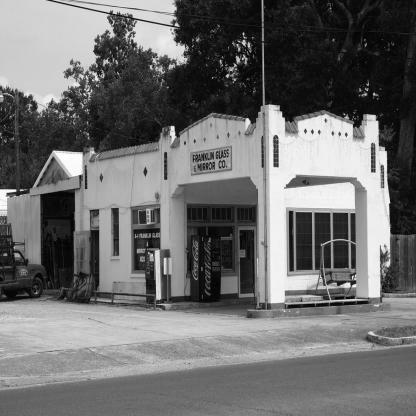ambulance: (1, 231, 61, 306)
